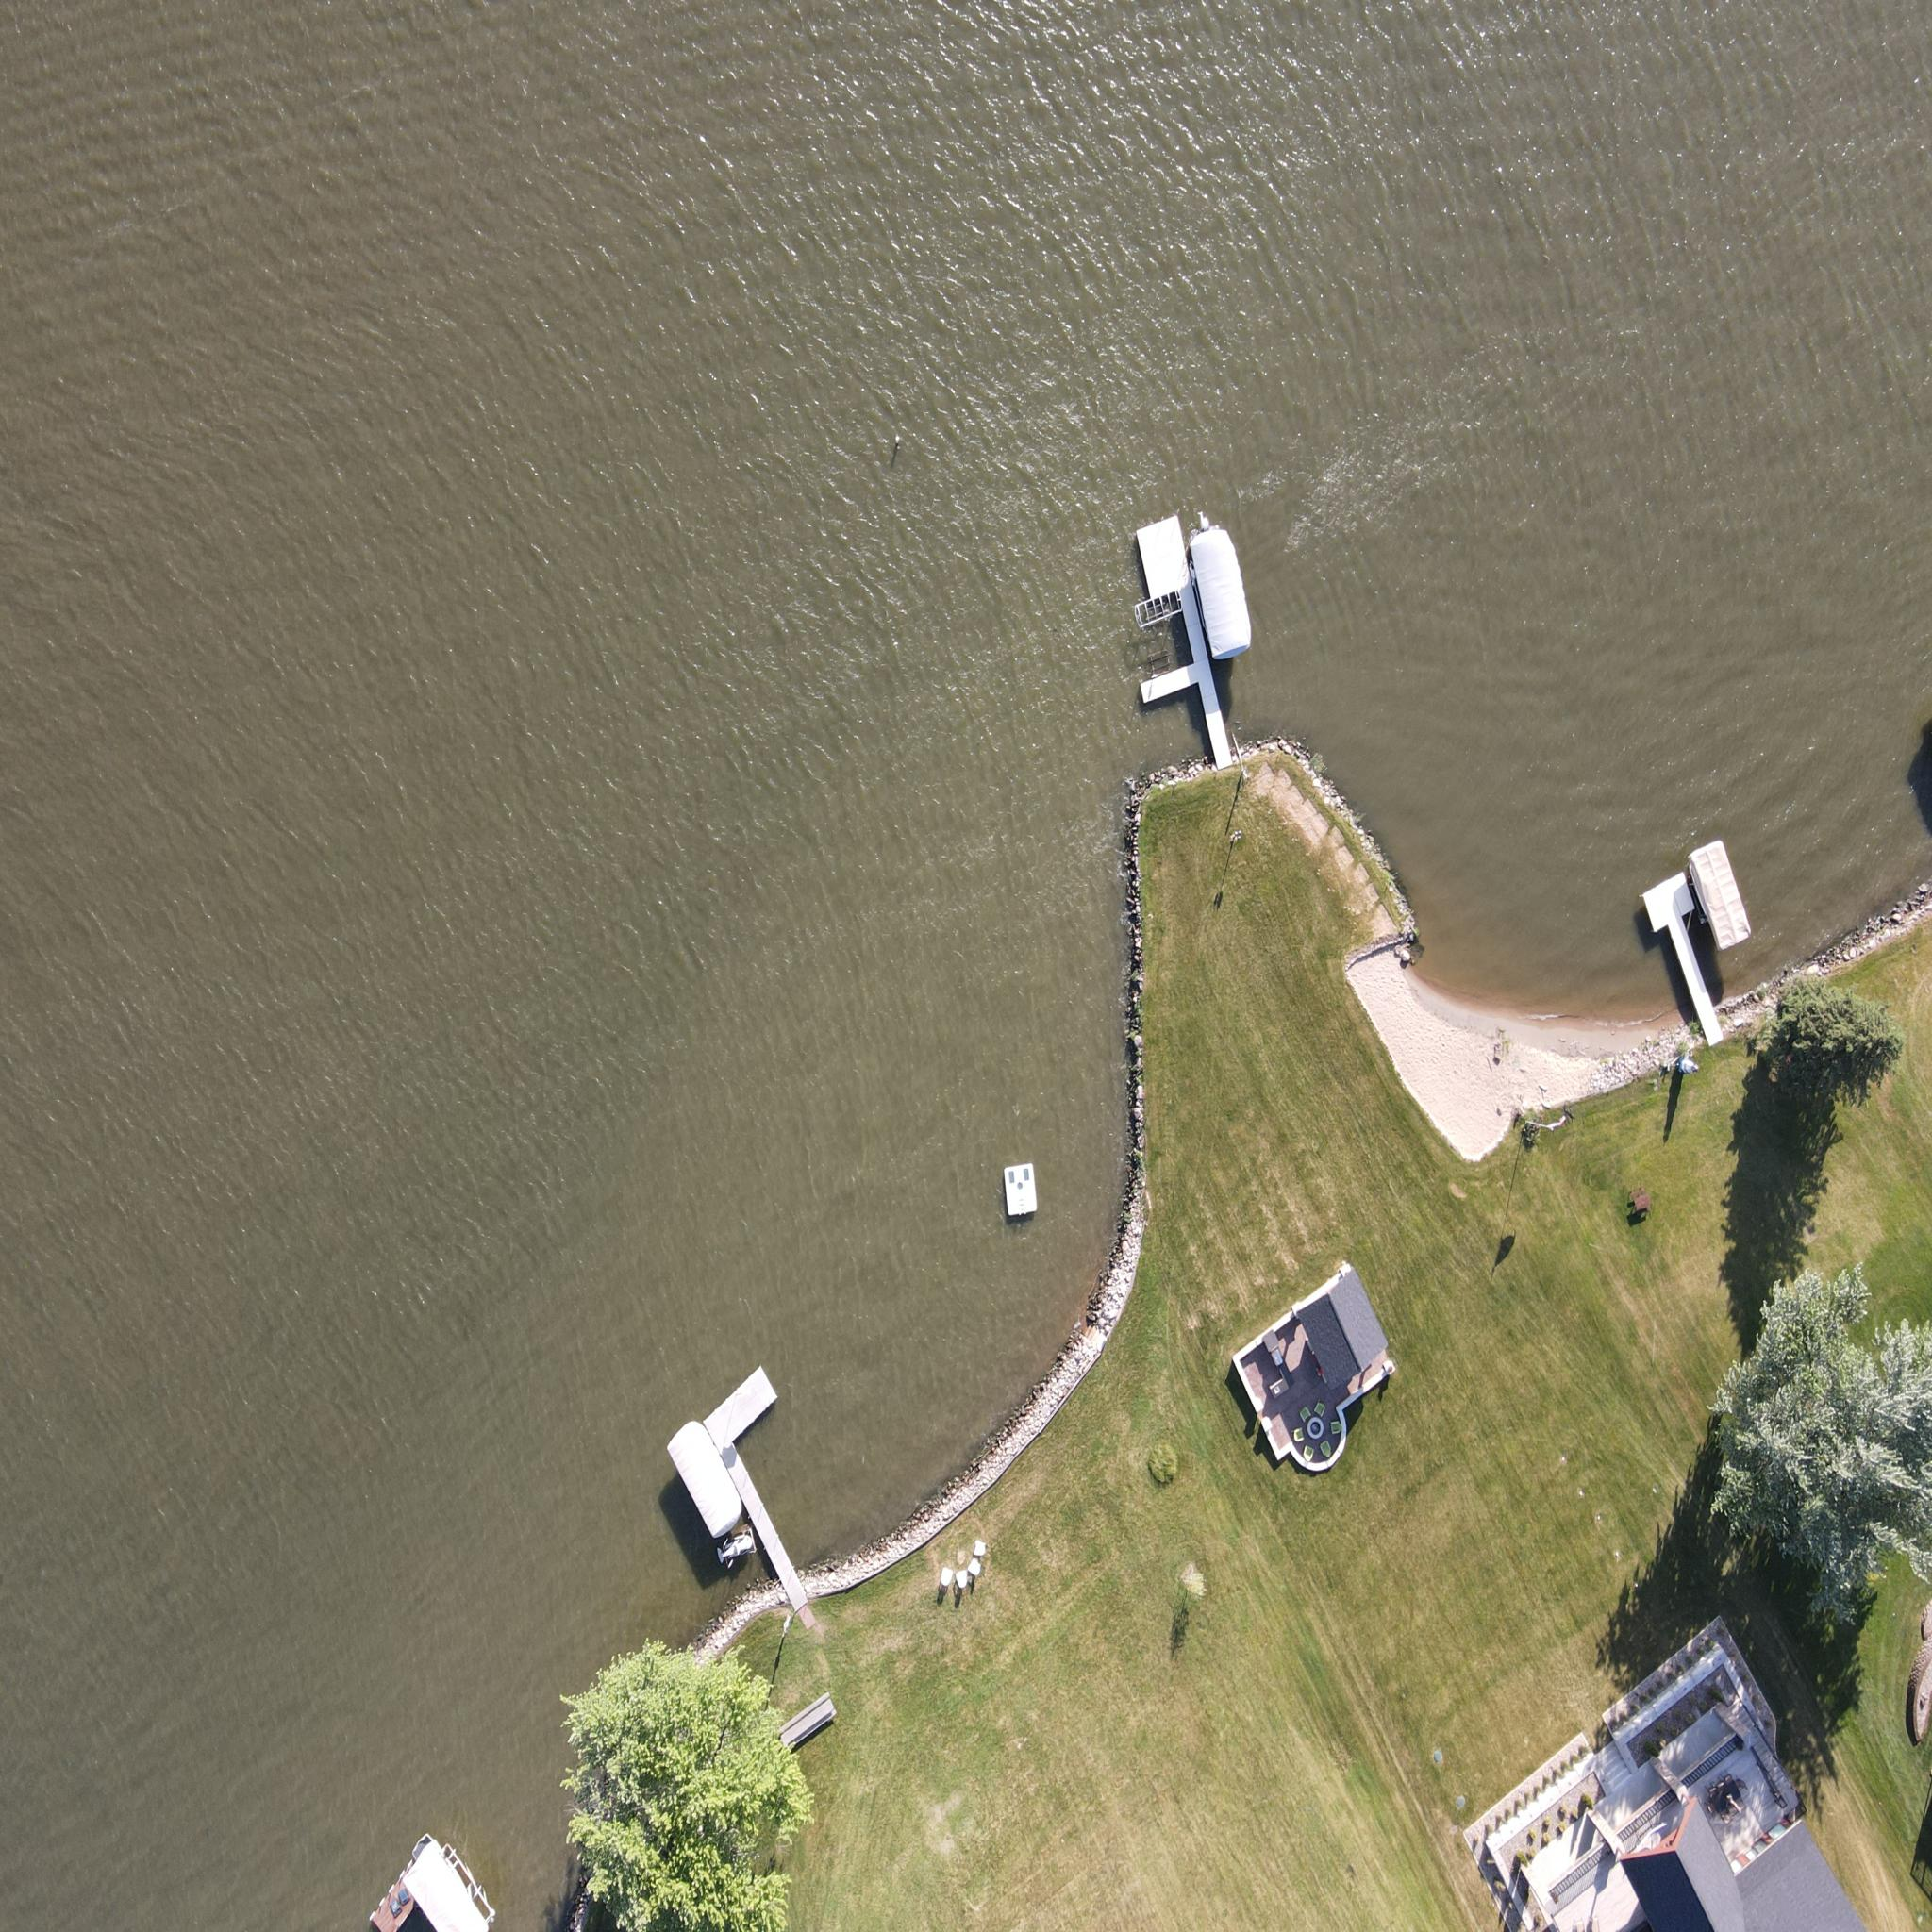dock: (1122, 511, 1235, 778), (701, 1362, 812, 1617), (1633, 867, 1727, 1051), (364, 1847, 421, 1932)
lift: (655, 1415, 747, 1546), (398, 1836, 499, 1932), (1185, 527, 1254, 665), (1683, 835, 1753, 954), (1127, 586, 1184, 630)
